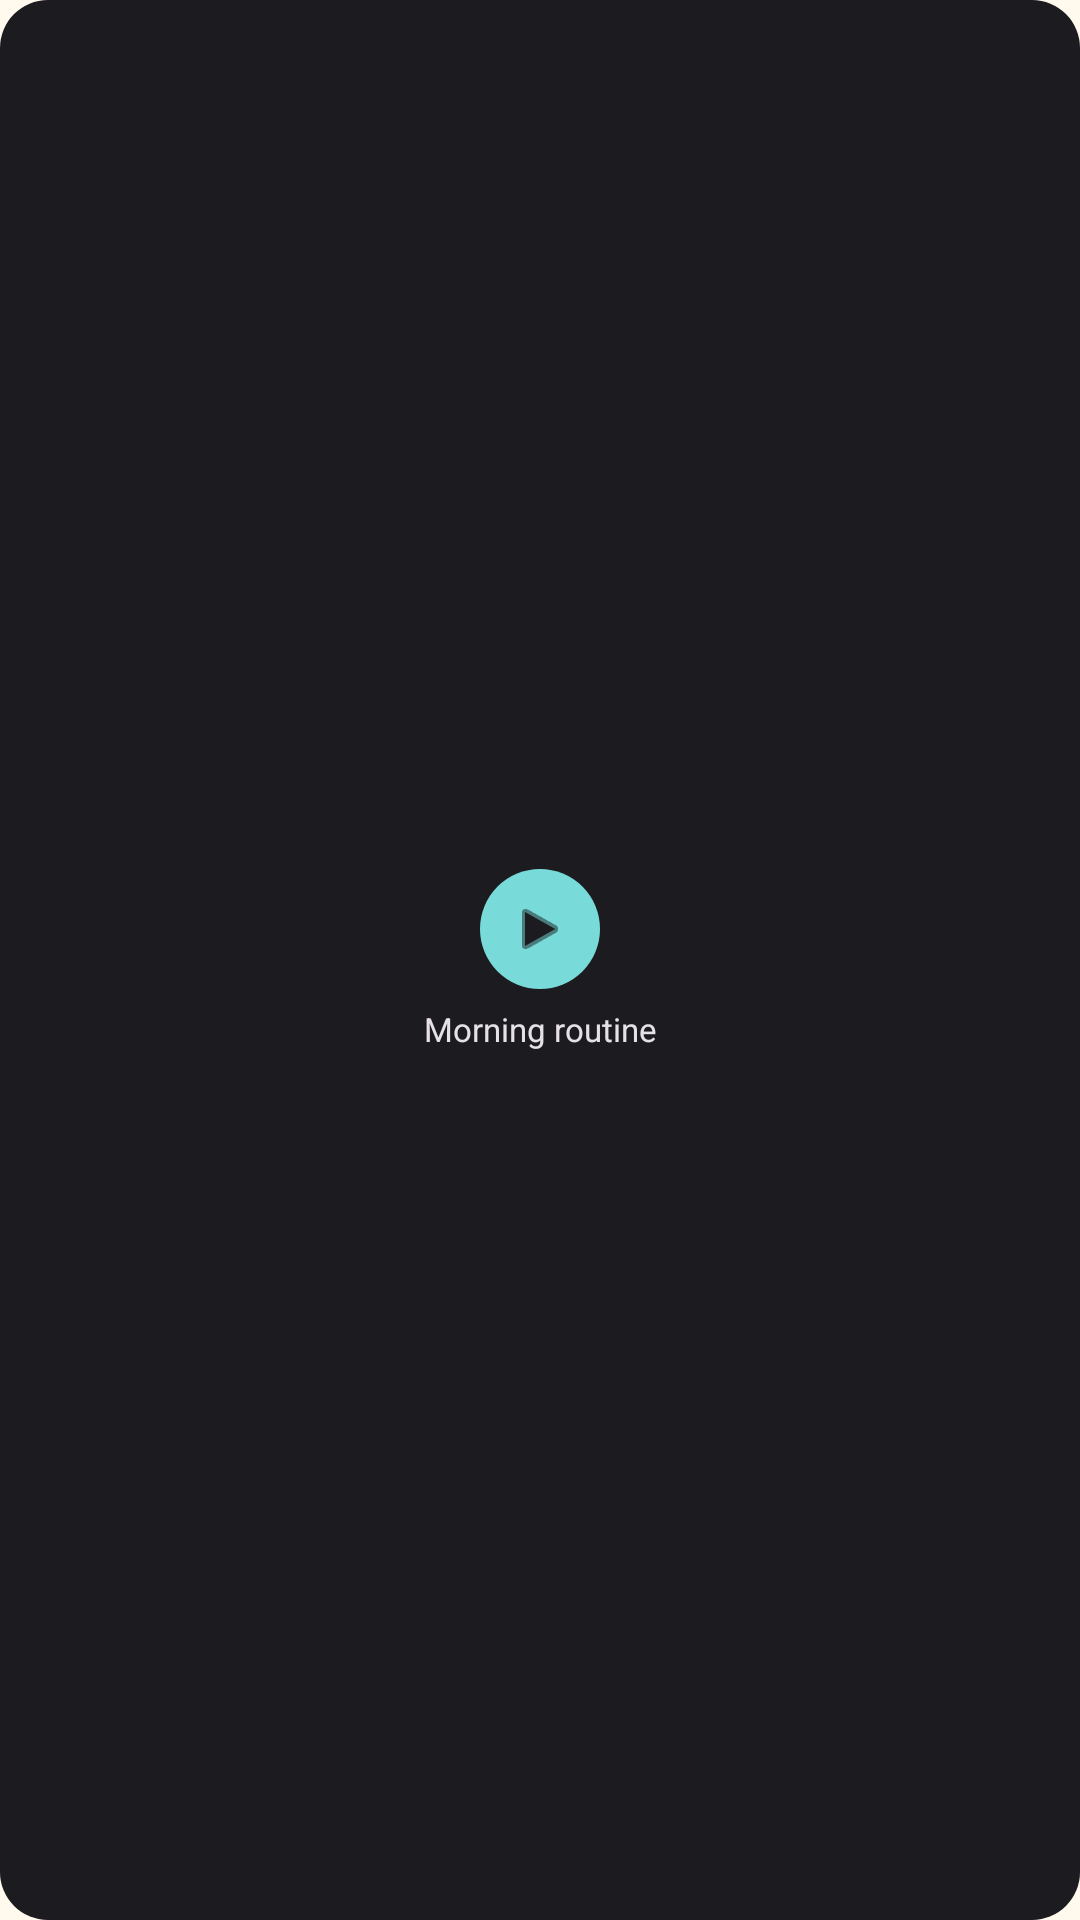

Named icons in this screenshot (1080px×1920px) and their bounding boxes, (x1, y1, x2, y2):
play: (480, 869, 600, 989)
